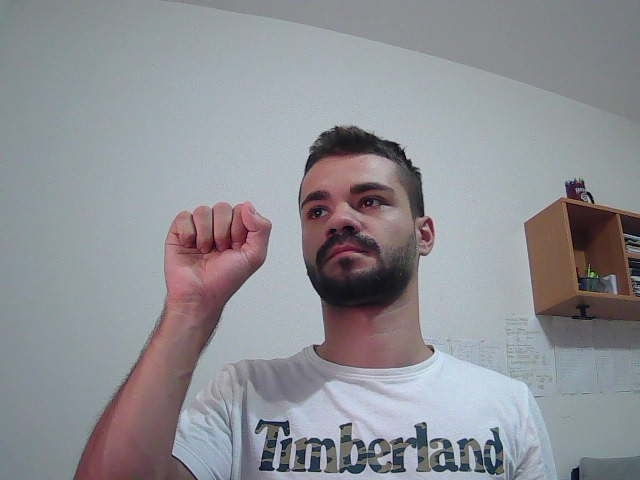a: (119, 189, 280, 439)
